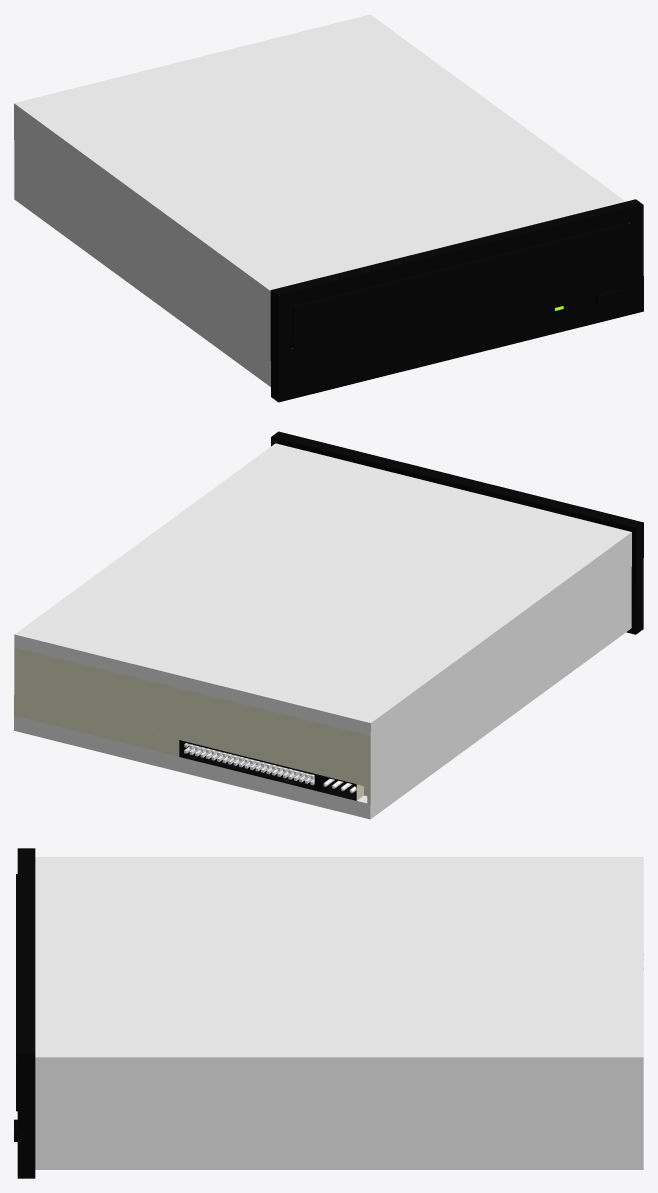
The model's file is dev-optical-drive.glb.
3 renders of one model, top to bottom at view 1: azimuth 30°, elevation 25°; view 2: azimuth 150°, elevation 25°; view 3: azimuth 270°, elevation 25°, orthographic. The views are drawn at different scales.
Visible parts, largest first — view 1: body; view 2: body; view 3: body.
Boxes of the visible parts, x1,y1,x2,y2 form: body: (14,14,643,402); body: (14,431,643,819); body: (14,848,643,1178).
Size of the model in its own units: 0.1329 by 0.0377 by 0.17.
